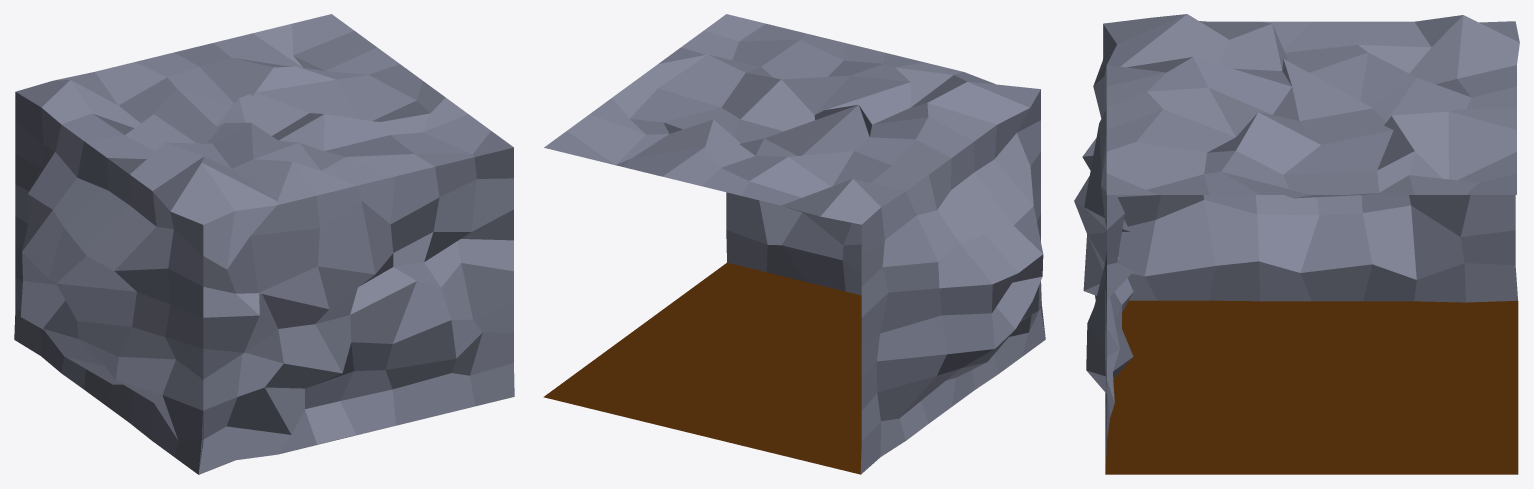
The model's file is Cave_TurnRight.fbx.
3 views of the same model, side by side, from view 1: azimuth 30°, elevation 25°; view 2: azimuth 150°, elevation 25°; view 3: azimuth 270°, elevation 25° (orthographic). The views are drawn at different scales.
Visible parts, largest first — view 1: Plane.001, Plane, Plane.004; view 2: Plane, Plane.004, Plane.002, Plane.001; view 3: Plane, Plane.002, Plane.004, Plane.001.
Part boxes in pixels (x1,y1,x2,y2): Plane.001: (198,147,514,474); Plane: (16,14,513,224); Plane.004: (14,92,203,474); Plane: (544,14,1040,224); Plane.004: (860,90,1045,474); Plane.002: (543,262,861,474); Plane.001: (726,192,1045,337); Plane: (1103,14,1519,198); Plane.002: (1105,300,1518,474); Plane.004: (1103,24,1517,302); Plane.001: (1074,25,1133,471).
Size of the model in its own units: 1960 by 1331 by 1739.
